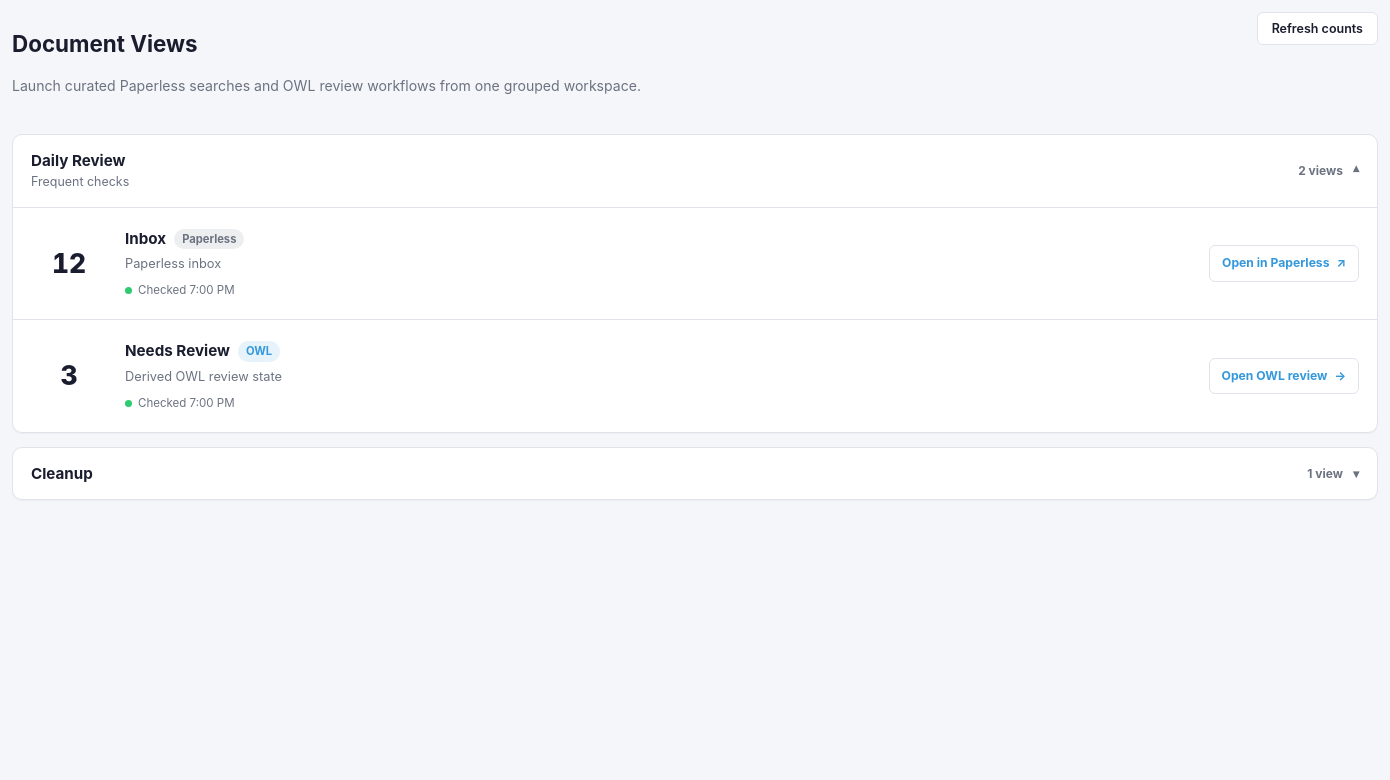
DocumentViews › collapses and expands configured groups while preserving launch access on count errors
Click the button "Cleanup 1 view ▾": (62, 473) [13,448,1377,499]
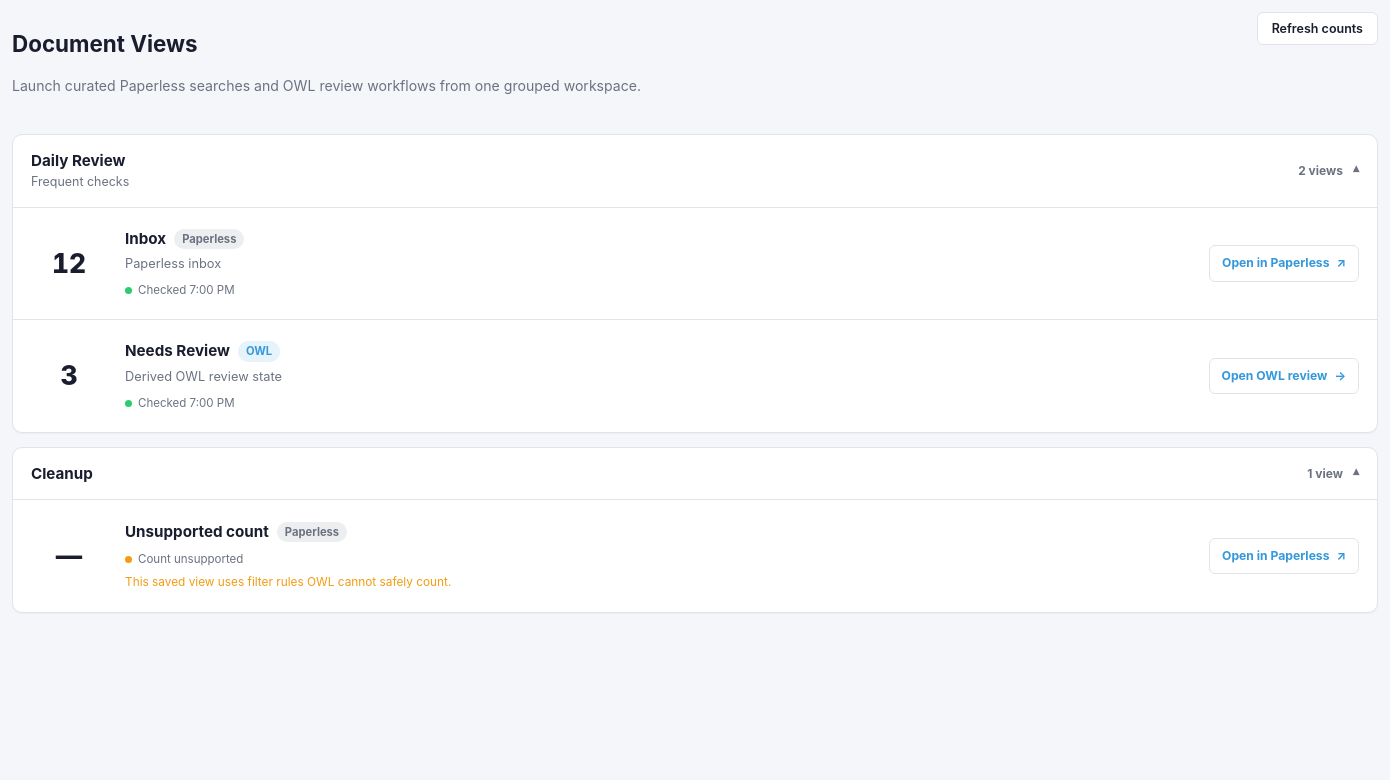
Now the heading "Unsupported count" is shown, box [125,520,269,543]
Now the text "Count unsupported" is shown, box [125,552,243,566]
Now the link "Open in Paperless ↗" in the row of "Unsupported count" is shown, box [1209,538,1359,574]
